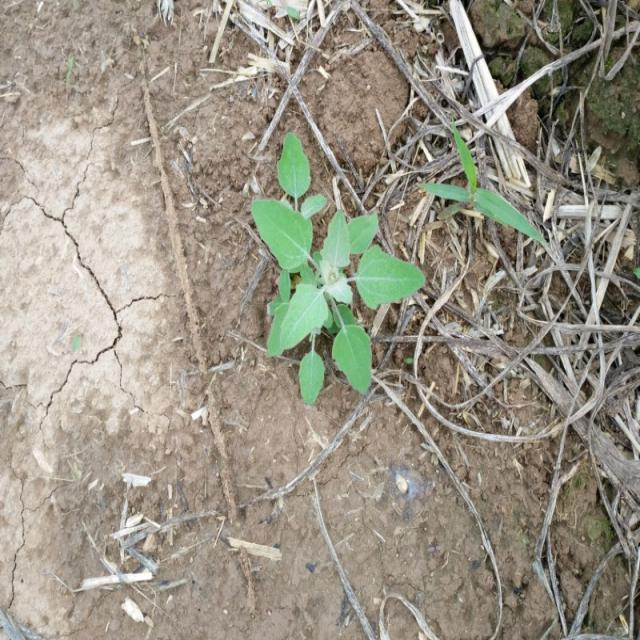goosefoots: (237, 130, 418, 396)
